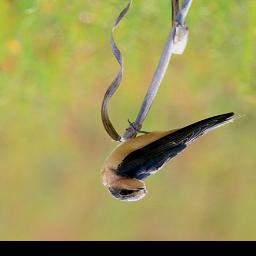Swallow: (100, 107, 249, 207)
